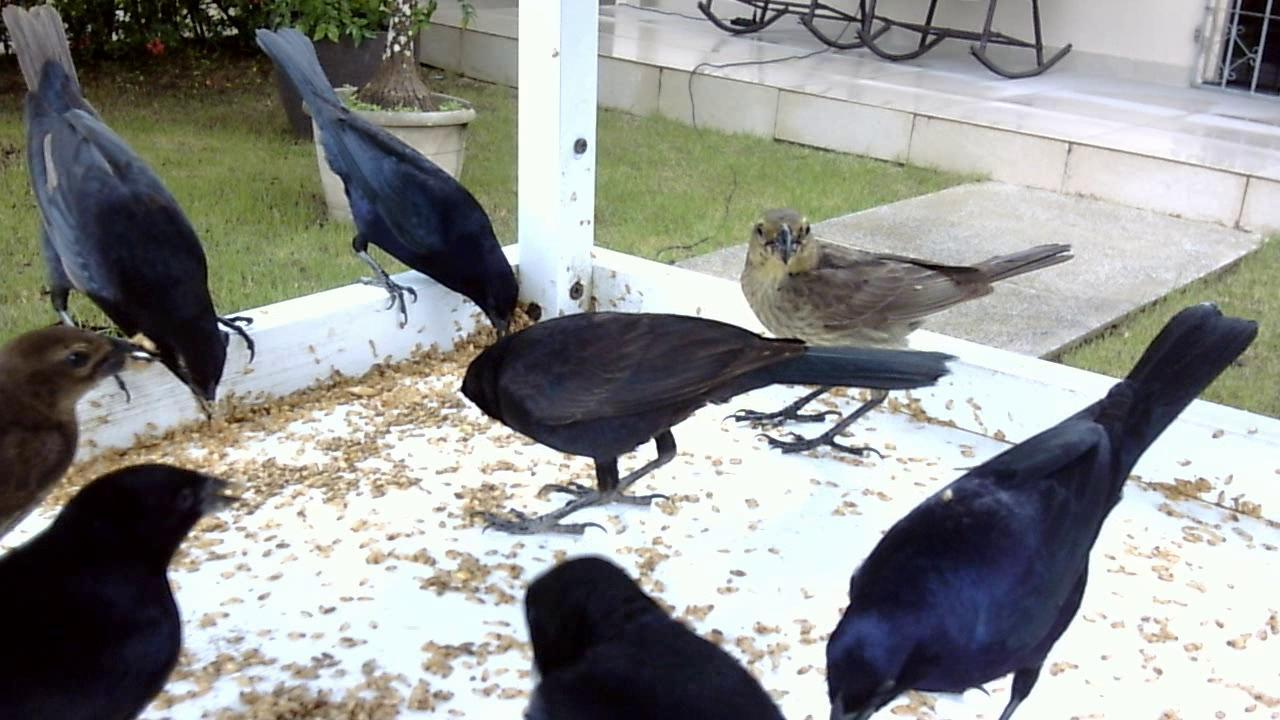chupim: (821, 297, 1270, 720), (441, 297, 963, 526), (1, 1, 264, 430), (241, 20, 531, 354), (1, 458, 255, 718), (731, 200, 1092, 374), (518, 538, 799, 718), (1, 319, 146, 538)
